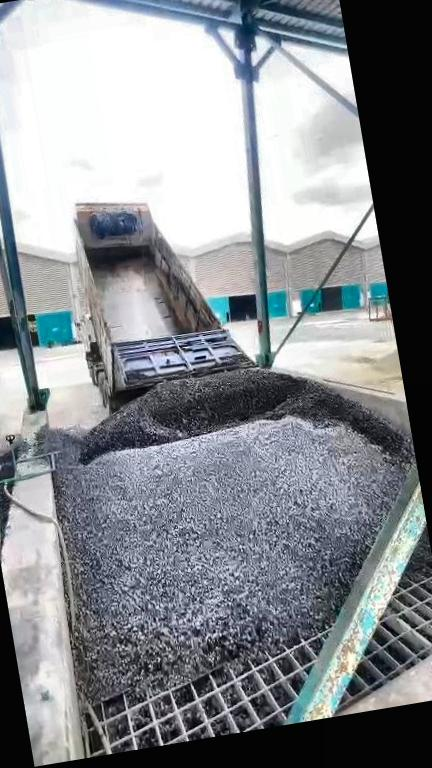gravel: (31, 416, 408, 713), (80, 368, 410, 462), (391, 528, 432, 600), (0, 485, 9, 540), (0, 449, 13, 477)
sand: (357, 349, 404, 393)
